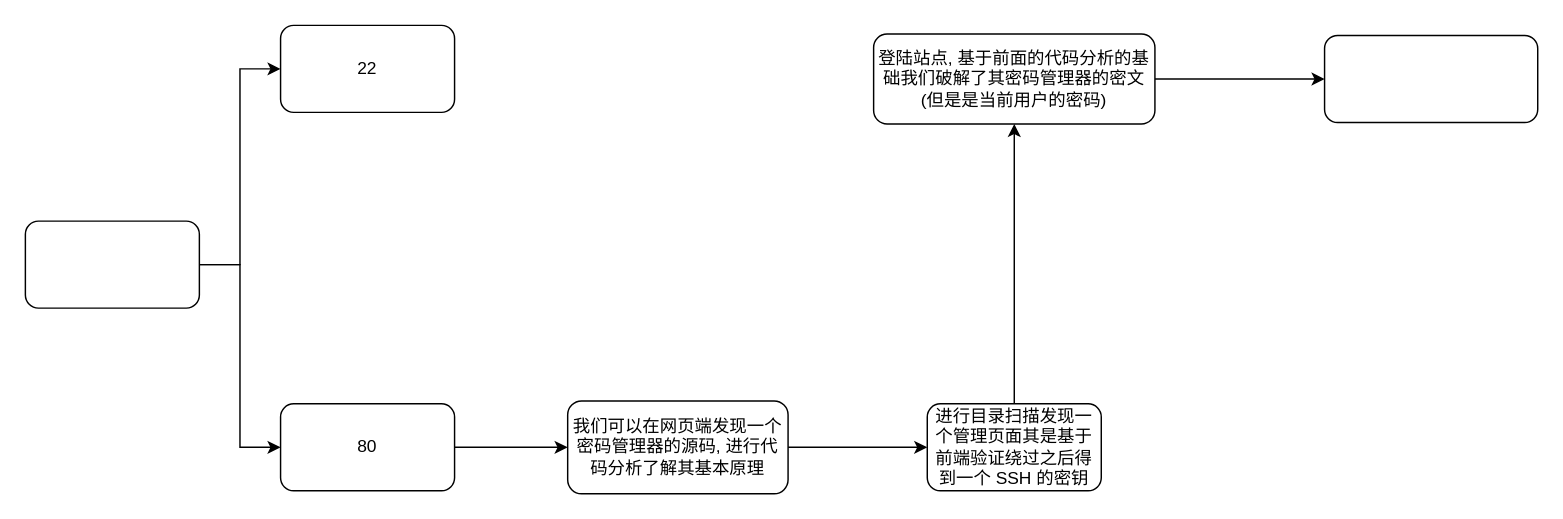
Image size: 1563x519. Some labels were removed from this diagram. The box of each missing label's shape, as (x1, y1, x2, y2) in pixels:
接着 root 用户从指定网站下载内容并进行执行, 通过修改 hosts 文件完成篡改: (1323, 34, 1538, 123)
端口扫描: (24, 220, 199, 308)
